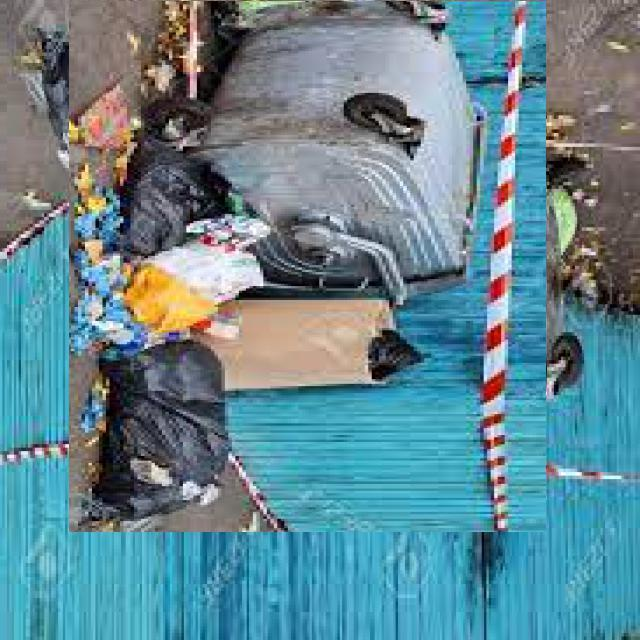Trashbag: (101, 340, 235, 507), (114, 131, 236, 250)
